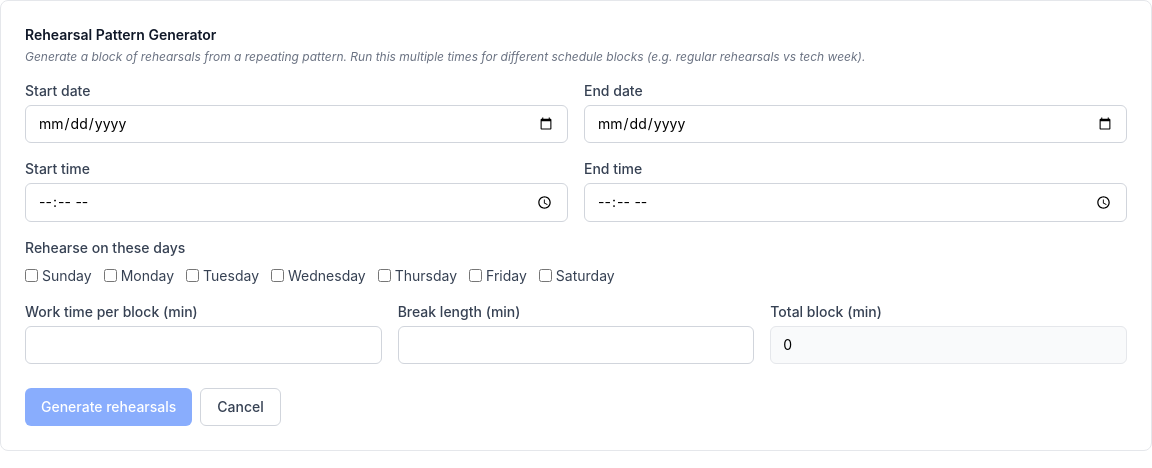
RehearsalPatternCreator › auto-bumps end time when start time moves later than end time
Type "19:00" into the time field below "Start time" at [296, 202], box [25,183,568,222]
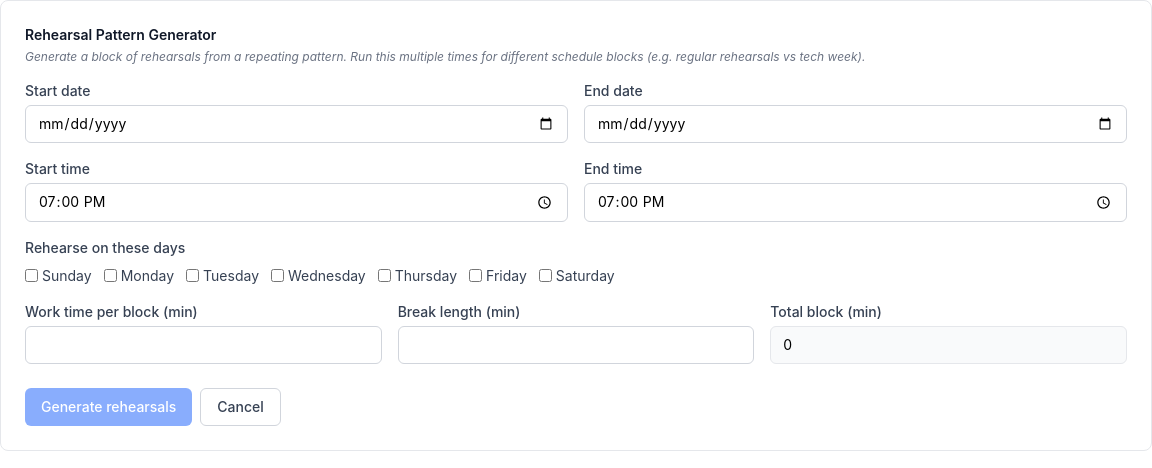
Replace the text in the time field below "End time" with "21:00" at [856, 202], box [584,183,1127,222]
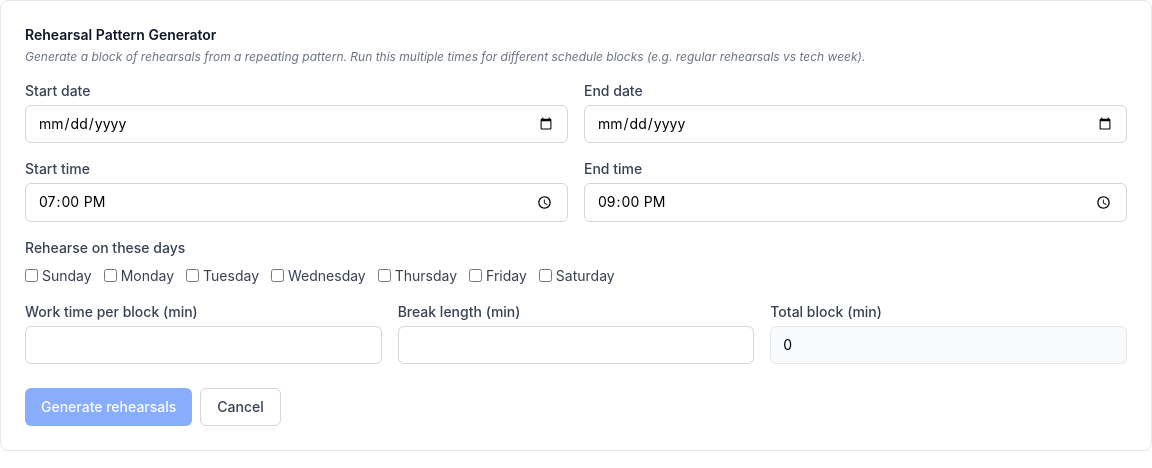
Replace the text in the time field below "Start time" with "22:00" at [296, 202], box [25,183,568,222]
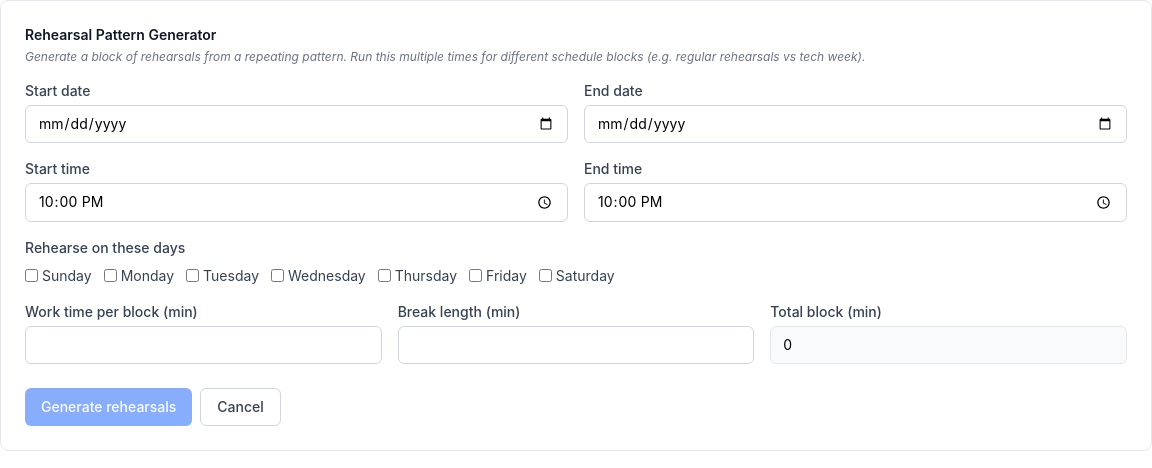
Now the time field below "End time" holds "22:00", box [584,183,1127,222]
